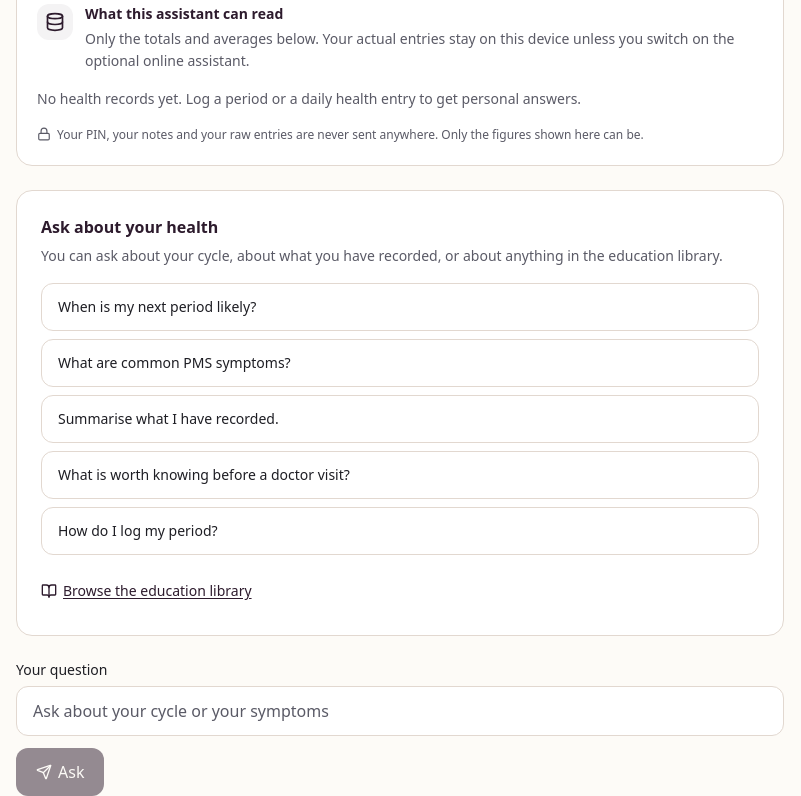
Scenario: the assistant view › lets a reader check a citation instead of only being told its title
The width and height of the screenshot is (801, 796).
(page scrolled)
Step 1. Type "what is PCOS" into the field → (400, 711), box [16,686,784,736]
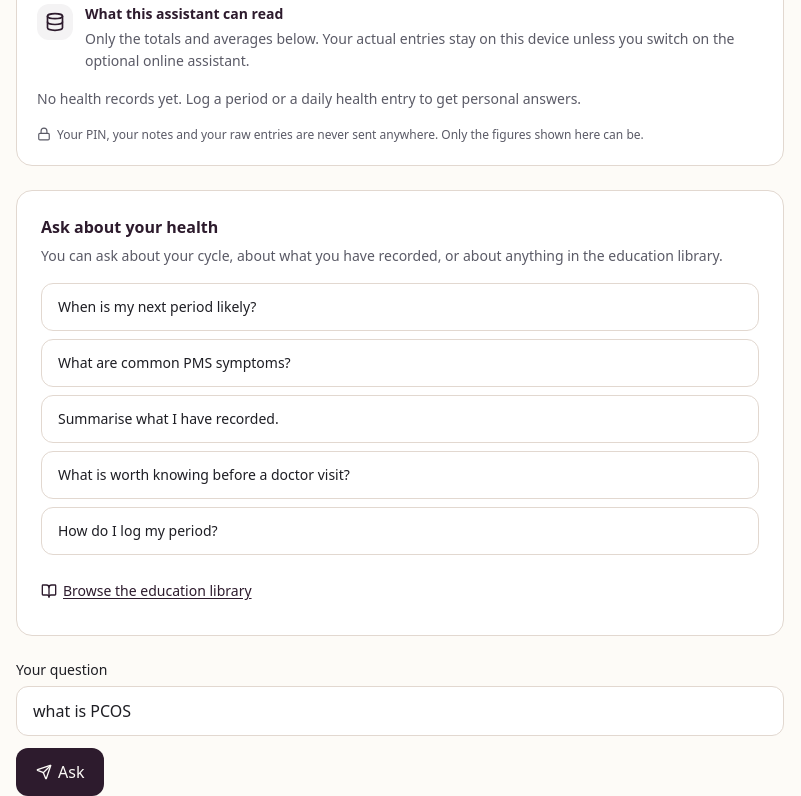
Step 2. Click the button "Ask" → (60, 772), box [16,748,104,795]
(page scrolled)
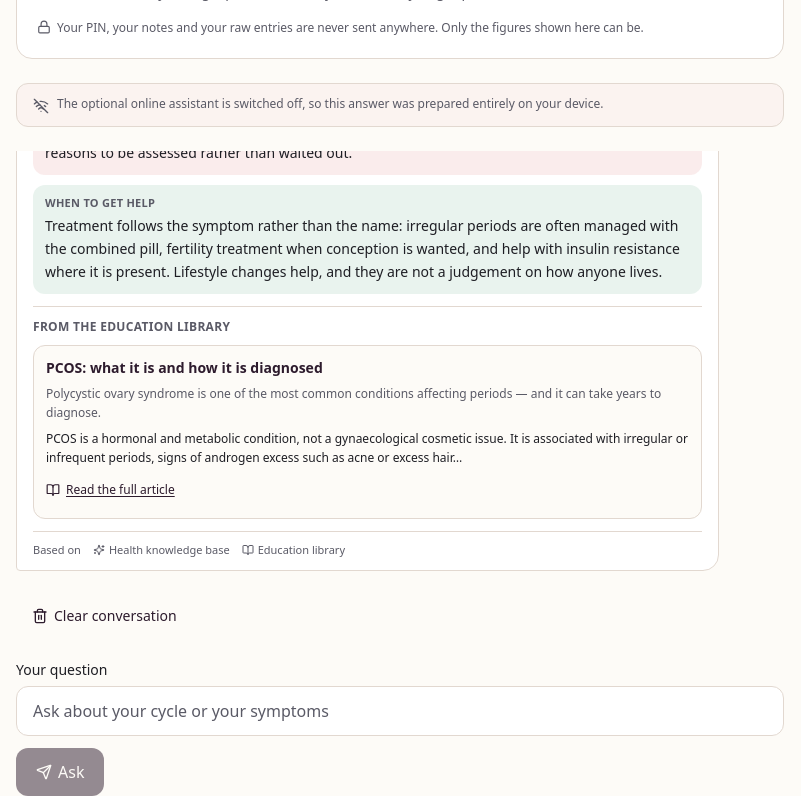
expect the text "Polycystic ovary syndrome is one of the most common conditions affecting periods — and it can take years to diagnose." is shown: met, box [46,384,661,421]
